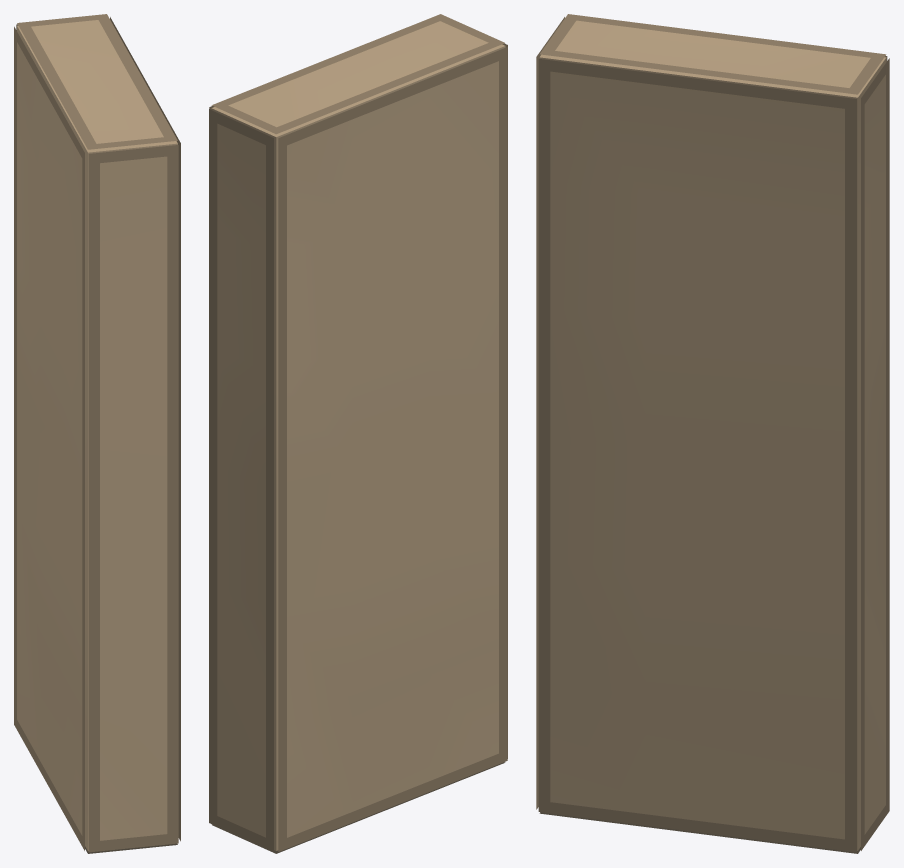
The model's file is key.glb.
3 renders of one model, left to right at view 1: azimuth 30°, elevation 25°; view 2: azimuth 150°, elevation 25°; view 3: azimuth 270°, elevation 25°, orthographic. The views are drawn at different scales.
Parts seen in each view (by area): view 1: key; view 2: key; view 3: key.
Boxes of the visible parts, x1=… form: key: x1=14, y1=14, x2=180, y2=853; key: x1=209, y1=14, x2=507, y2=853; key: x1=536, y1=14, x2=889, y2=853.
Bounding box in the file's own units: 0.0238 × 0.1008 × 0.0425.
